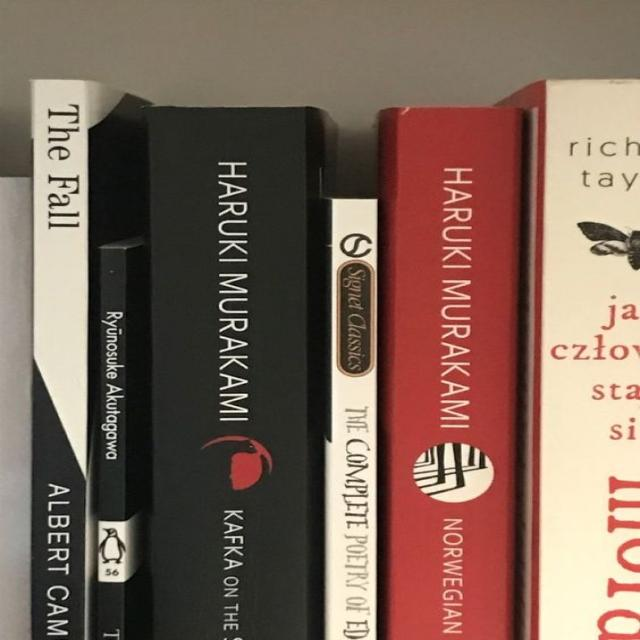book: (146, 107, 332, 639), (498, 80, 639, 639), (379, 106, 522, 639), (31, 81, 118, 639), (325, 198, 378, 639), (91, 239, 148, 639)
